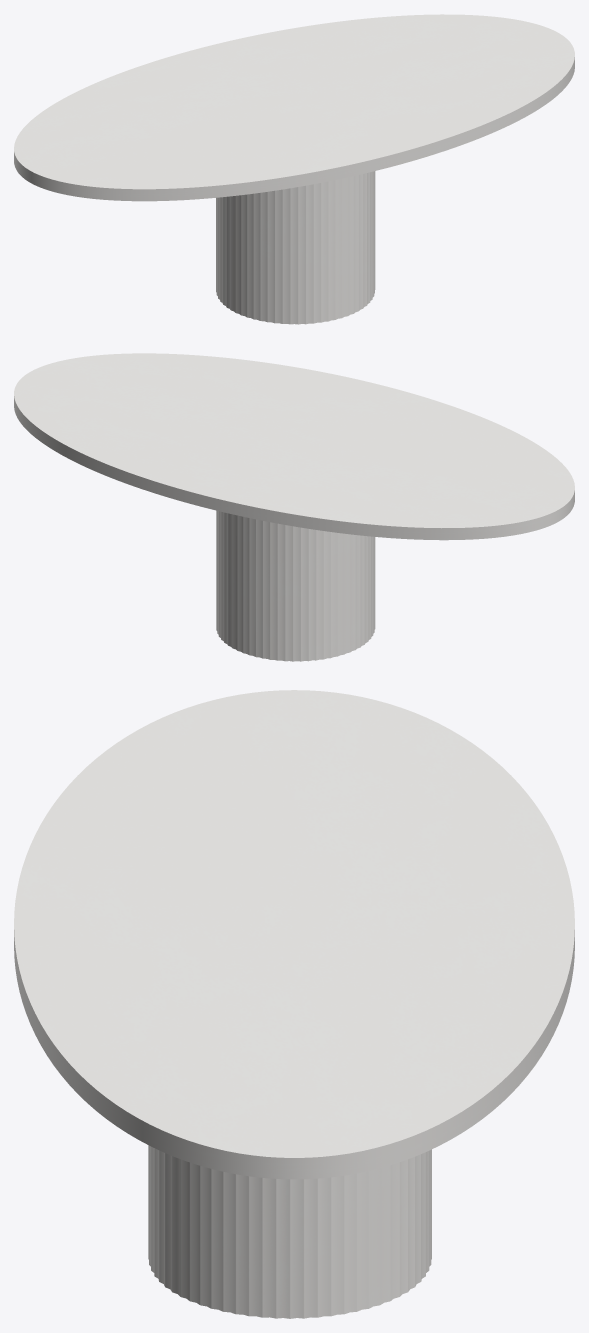
File: purewhite_ellips_standard_ripple.glb
3 views of the same model, one above another, from view 1: azimuth 30°, elevation 25°; view 2: azimuth 150°, elevation 25°; view 3: azimuth 270°, elevation 25° (orthographic). The views are drawn at different scales.
Parts seen in each view (by area): view 1: standard_ellips, ripple; view 2: standard_ellips, ripple; view 3: standard_ellips, ripple.
Part boxes in pixels (x1,y1,x2,y2): standard_ellips: (14,14,574,201); ripple: (216,171,375,324); standard_ellips: (14,353,574,540); ripple: (216,510,375,661); standard_ellips: (14,690,574,1179); ripple: (148,1145,431,1318).
Bounding box in the file's own units: 7.5 × 2.5 × 3.8.
Materials: 1 (1 with a texture image).
